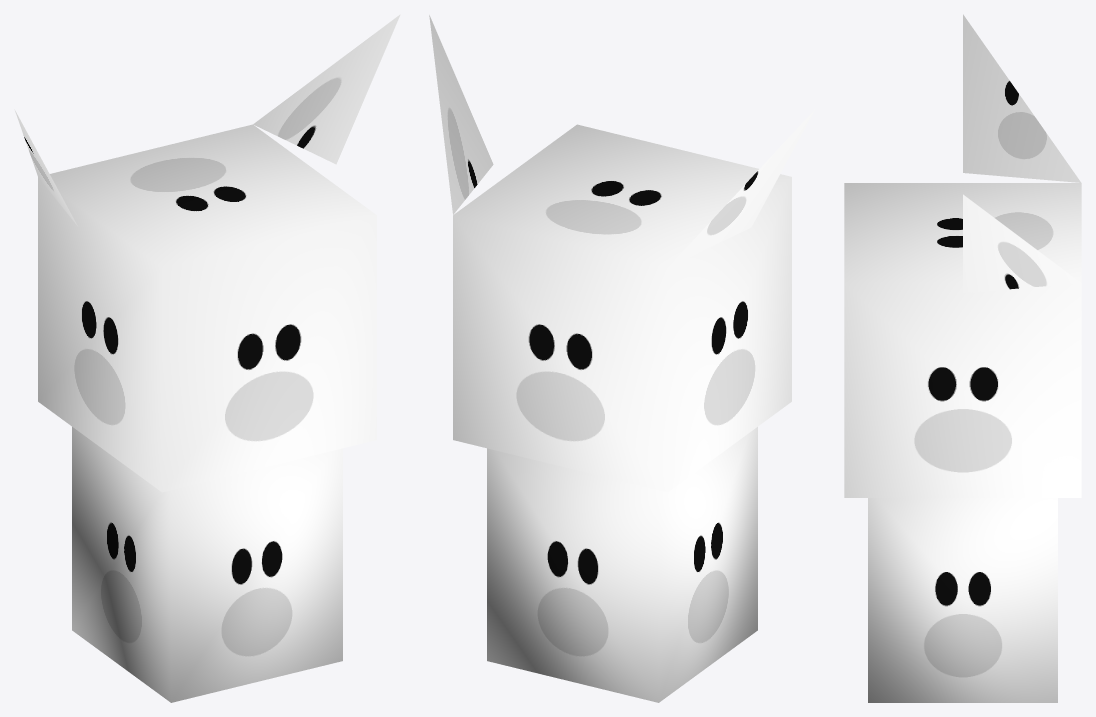
File: spirit_knight.obj
3 renders of one model, left to right at view 1: azimuth 30°, elevation 25°; view 2: azimuth 150°, elevation 25°; view 3: azimuth 270°, elevation 25°, orthographic. The views are drawn at different scales.
Bounding box in the file's own units: 1.8 × 2.6 × 1.
Materials: 1 (1 with a texture image).
